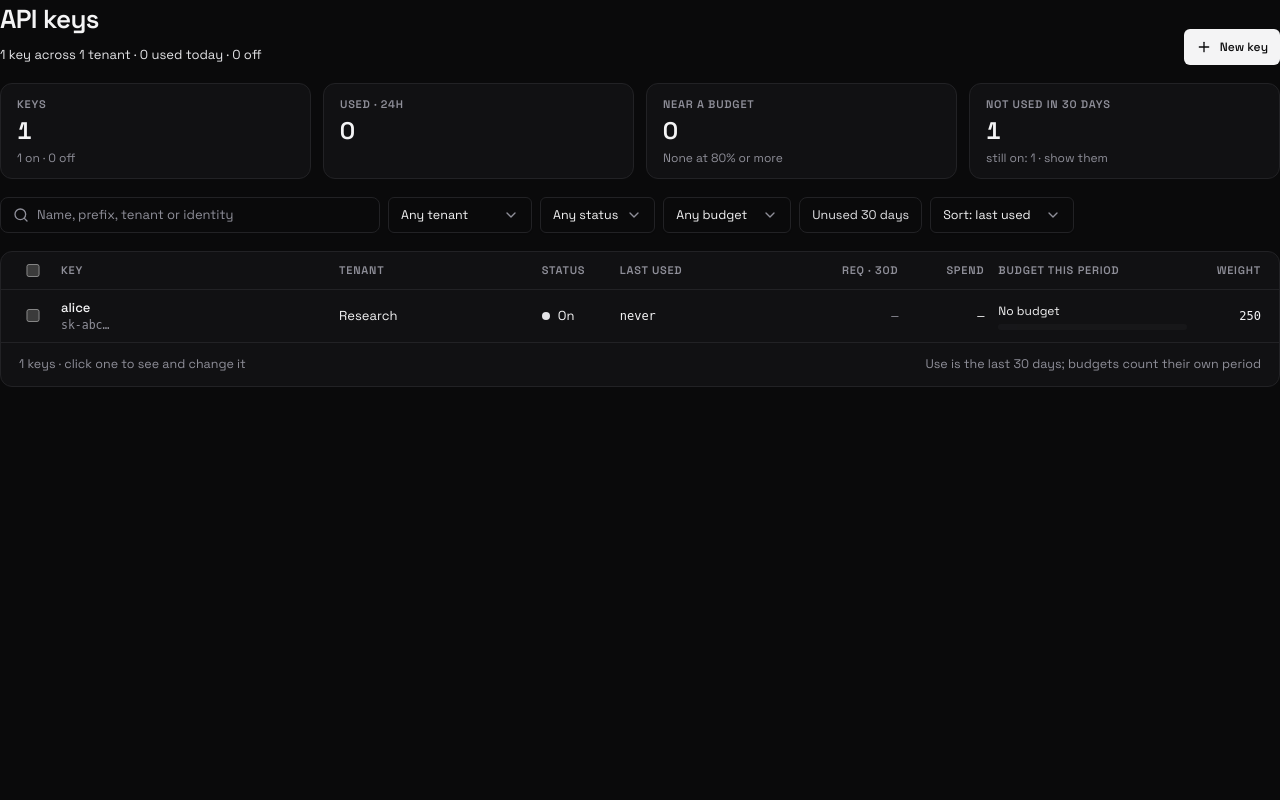
keys › shows a key's weight and per-model cap in its panel
Click the button "alice sk-abc…" at coordinates (85, 325), box left=61, top=298, right=325, bottom=334
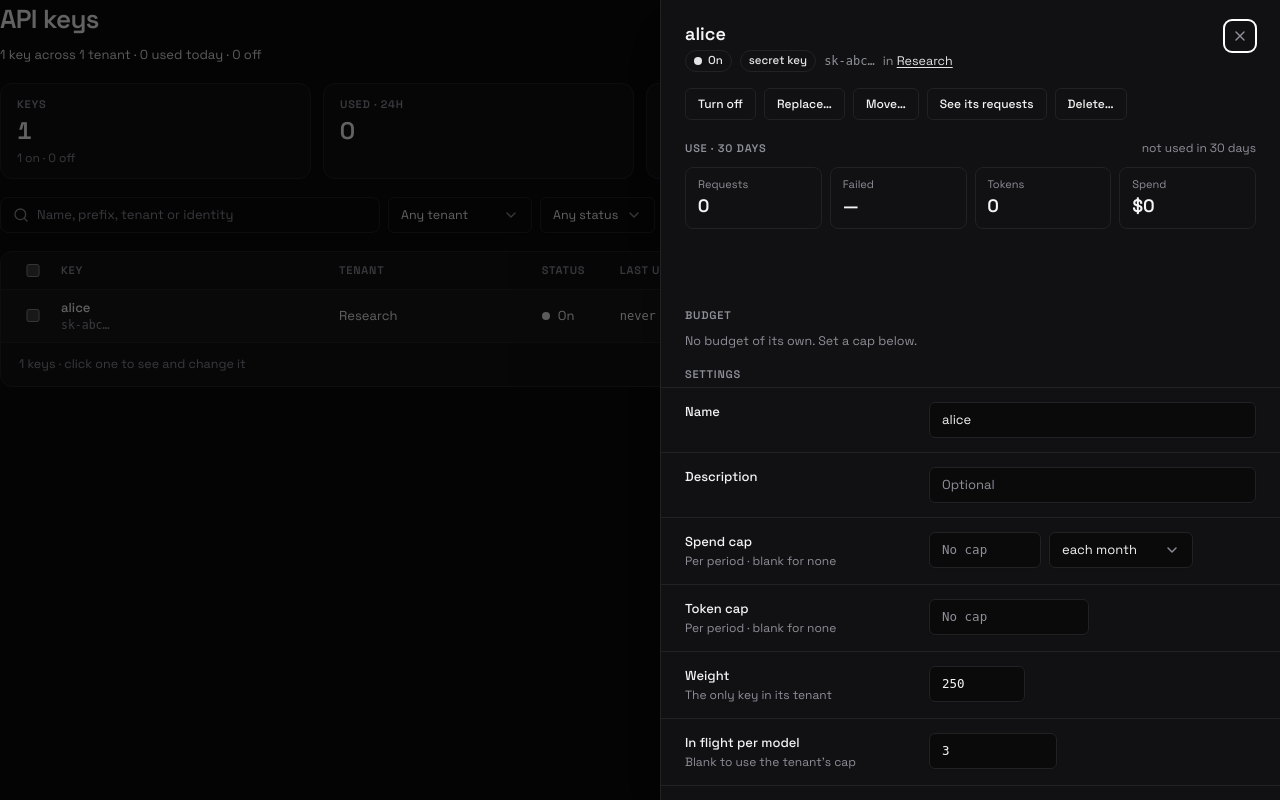
Now the number field named "weight" holds "250", box left=929, top=666, right=1025, bottom=702
Now the number field named "max_in_flight" holds "3", box left=929, top=733, right=1057, bottom=769
